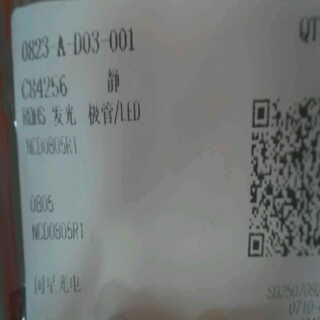LED: (48, 101, 167, 128)
